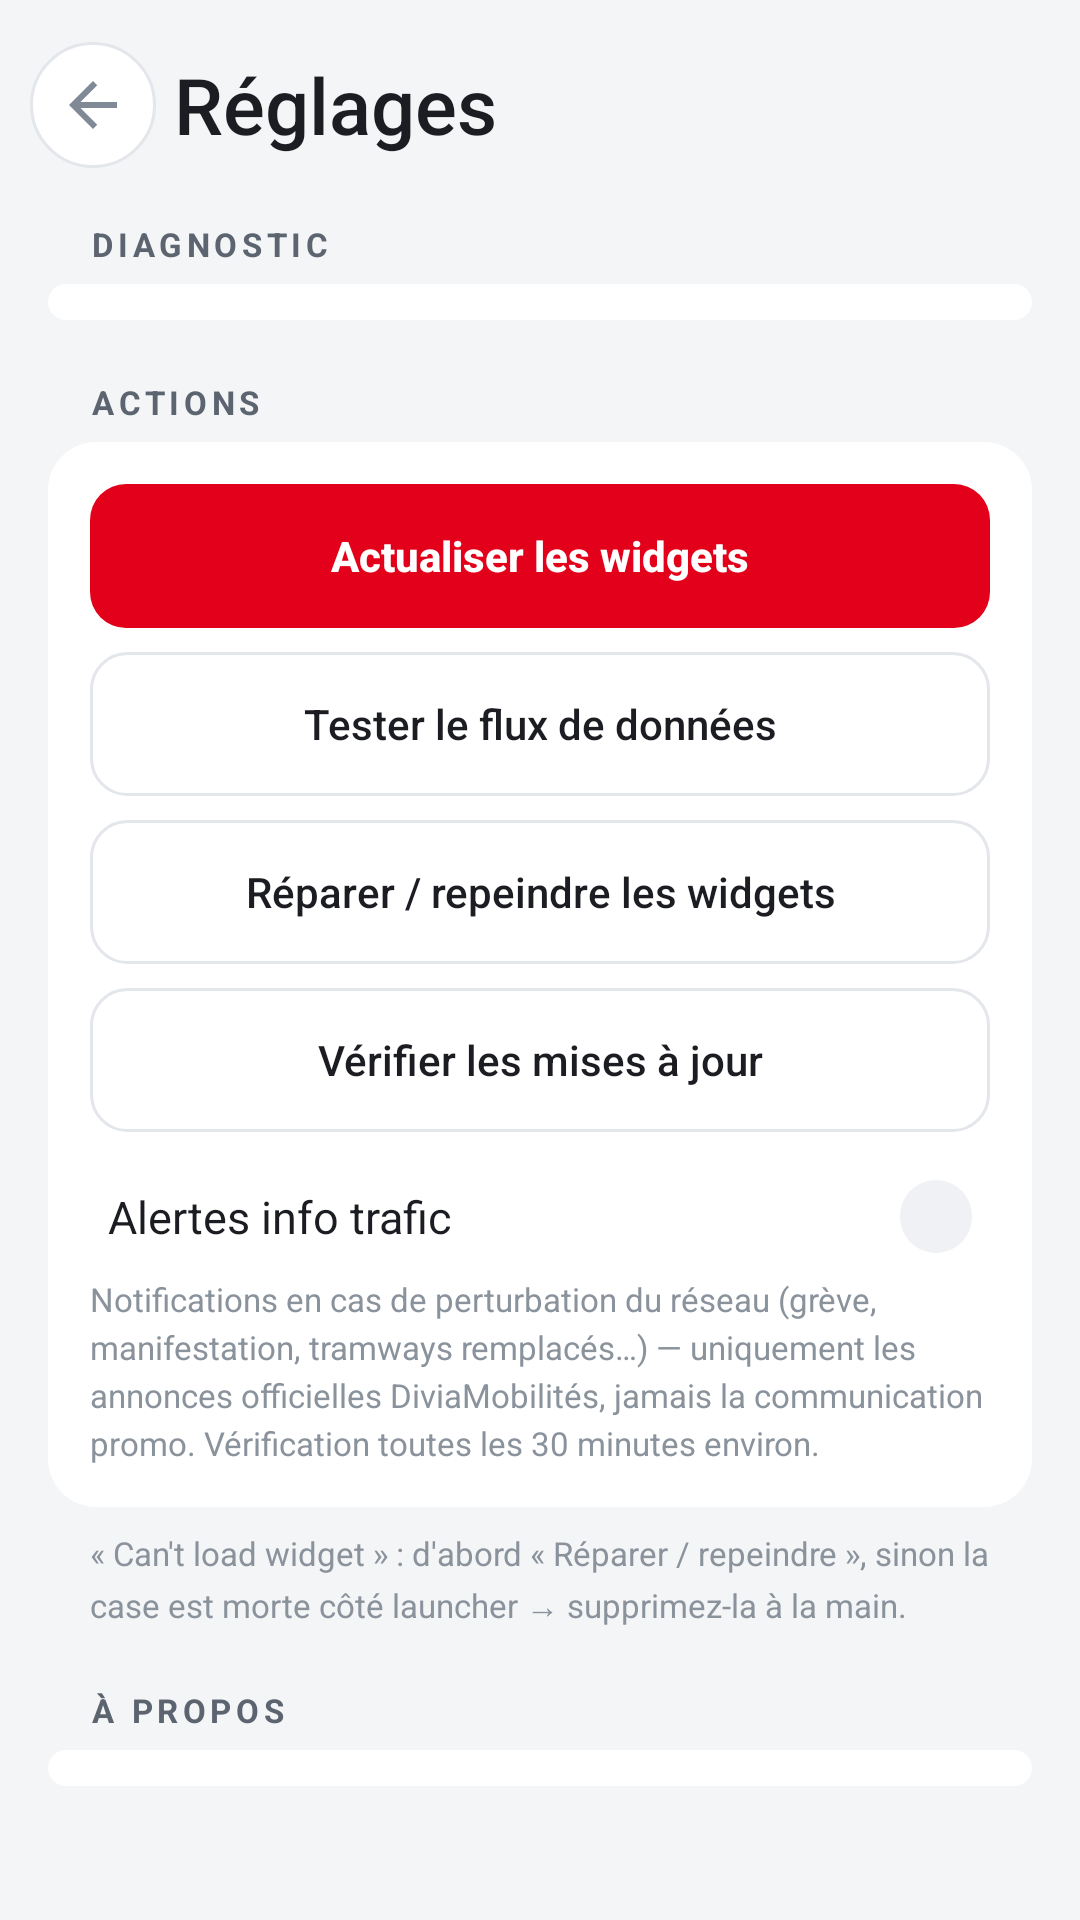

Where icons sit on this 1080w x 1920h app screen, as [left=x1, top=y1, right=x2, bottom=y2]:
Retour: [left=30, top=42, right=156, bottom=168]
